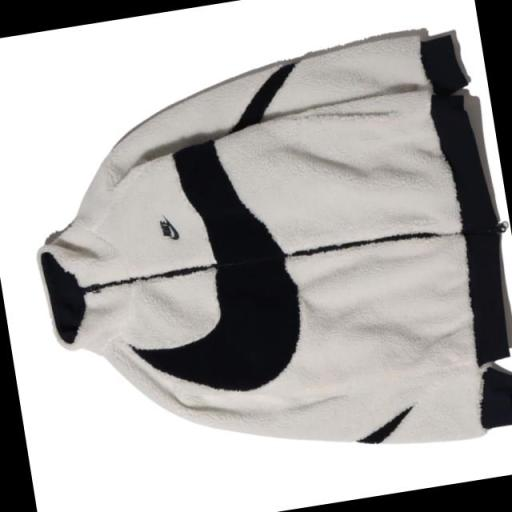Nike: (158, 216, 173, 238)
